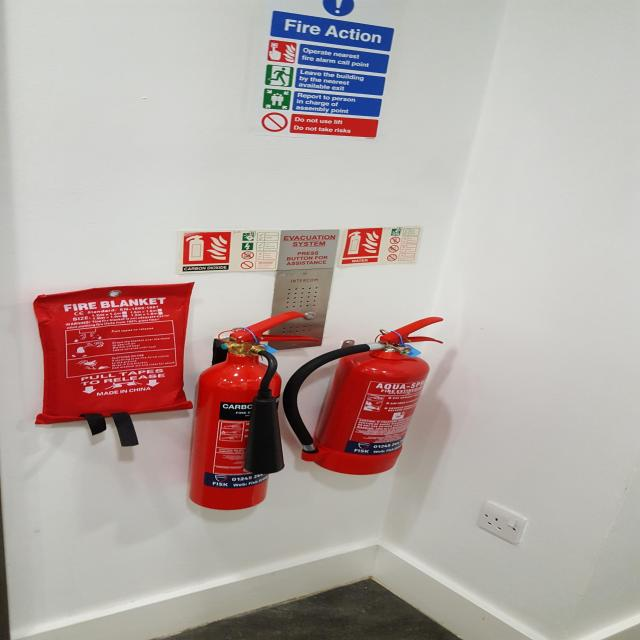fire_extinguisher: (184, 310, 324, 512), (280, 314, 446, 478)
